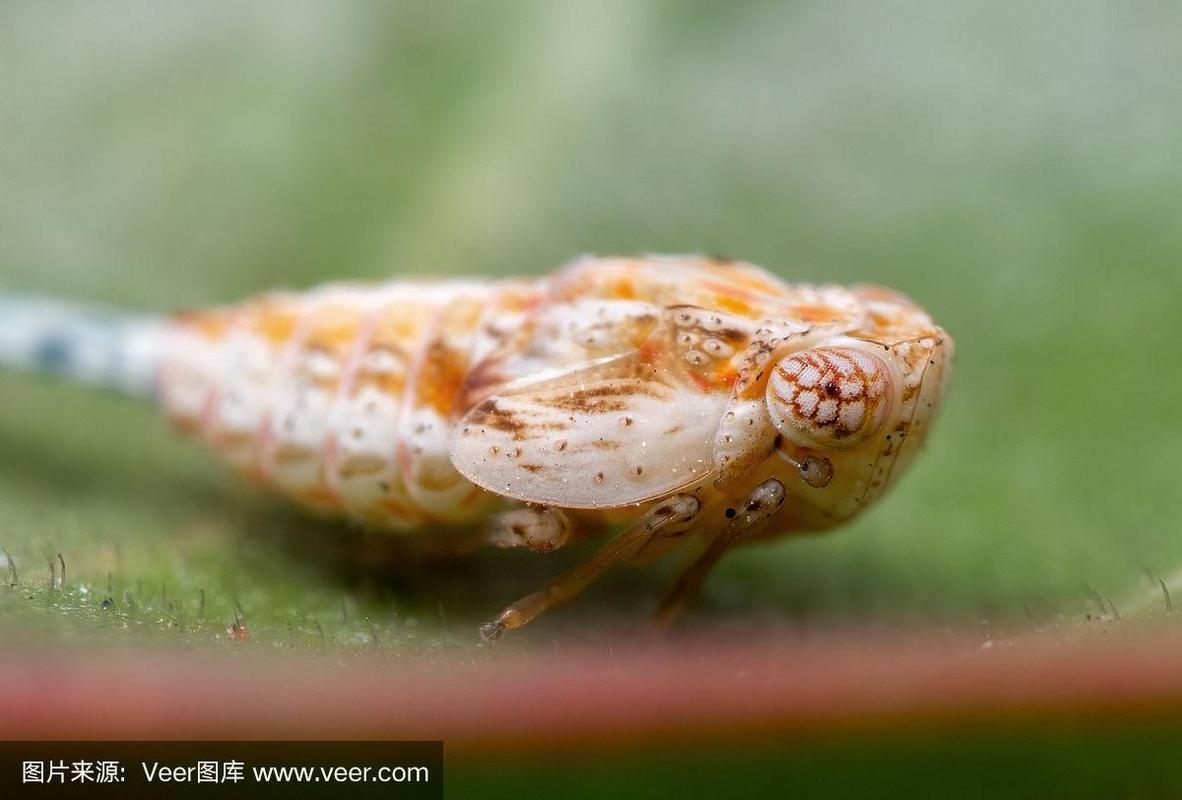Cicadellidae: (154, 251, 955, 648)
